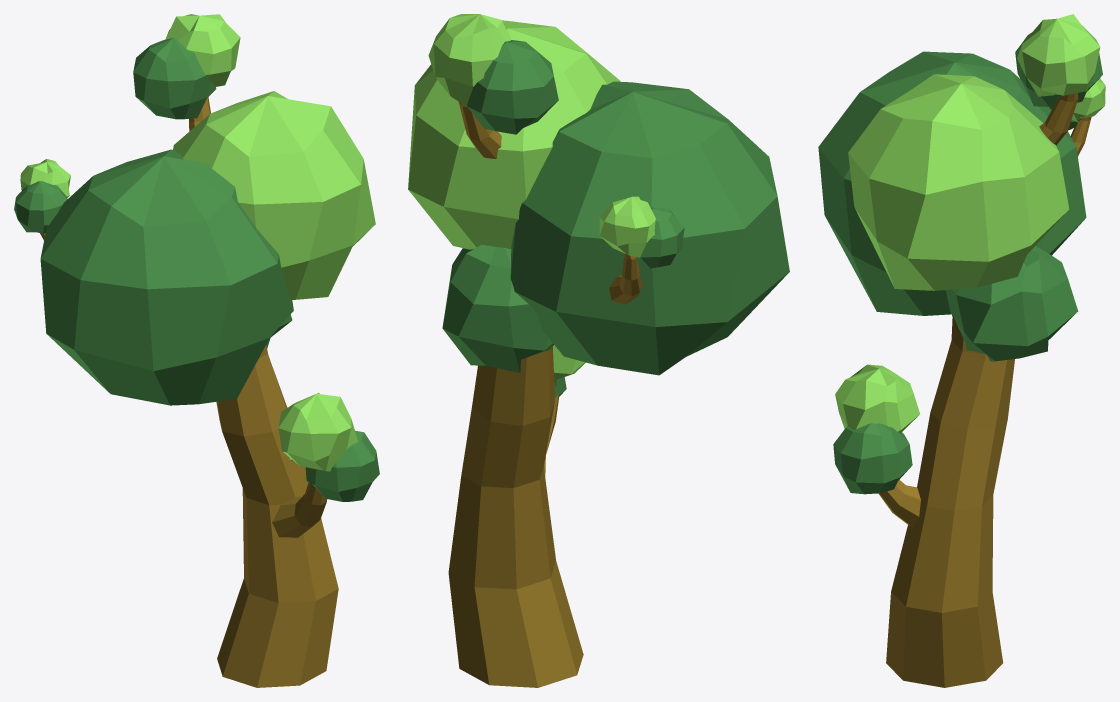
The model's file is tree_1.glb.
The picture shows the model from 3 angles, left to right: view 1: azimuth 30°, elevation 25°; view 2: azimuth 150°, elevation 25°; view 3: azimuth 270°, elevation 25°; orthographic projection. The views are drawn at different scales.
Visible parts, largest first — view 1: Circle; view 2: Circle; view 3: Circle.
Part boxes in pixels (box(x1,y1,x2,y2)): Circle: box(14, 14, 379, 687); Circle: box(408, 14, 789, 687); Circle: box(818, 14, 1105, 687).
Bounding box in the file's own units: 6.18 × 11.96 × 4.9.
